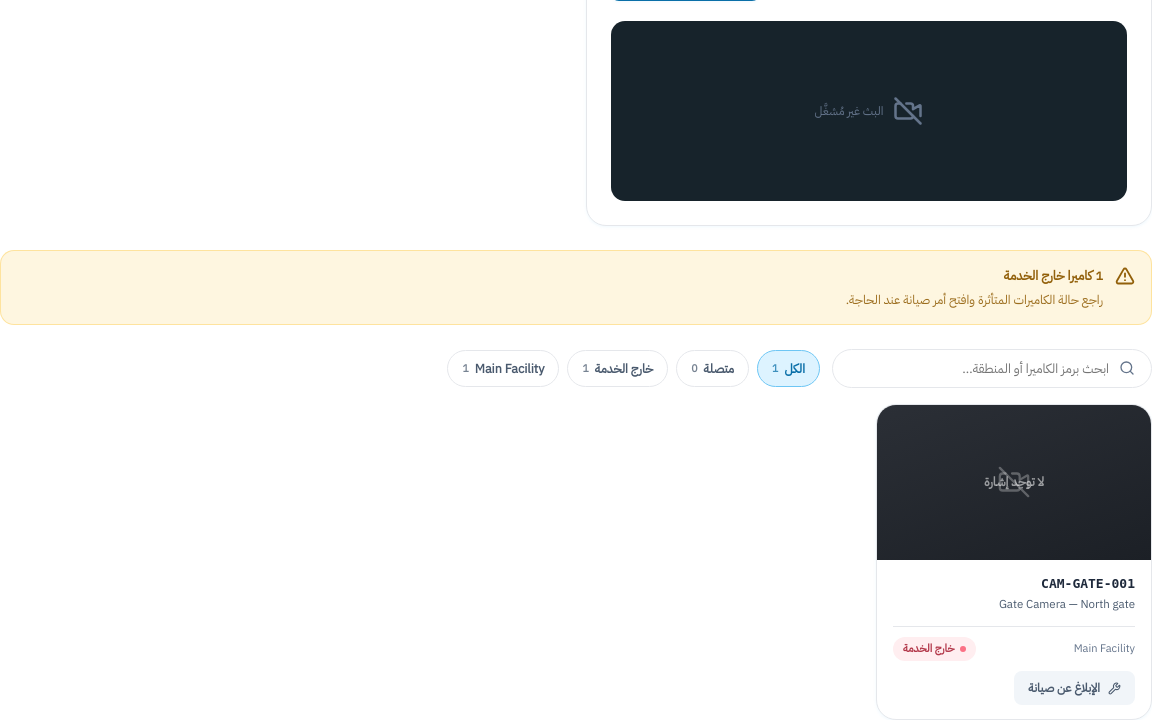
Test case: CameraMonitoringPage maintenance reporting › lets a Security Officer report a camera and shows the fault reference
The image size is (1152, 720).
(page scrolled)
Click the button "الإبلاغ عن صيانة": (1075, 688) x1=1014 y1=671 x2=1135 y2=705
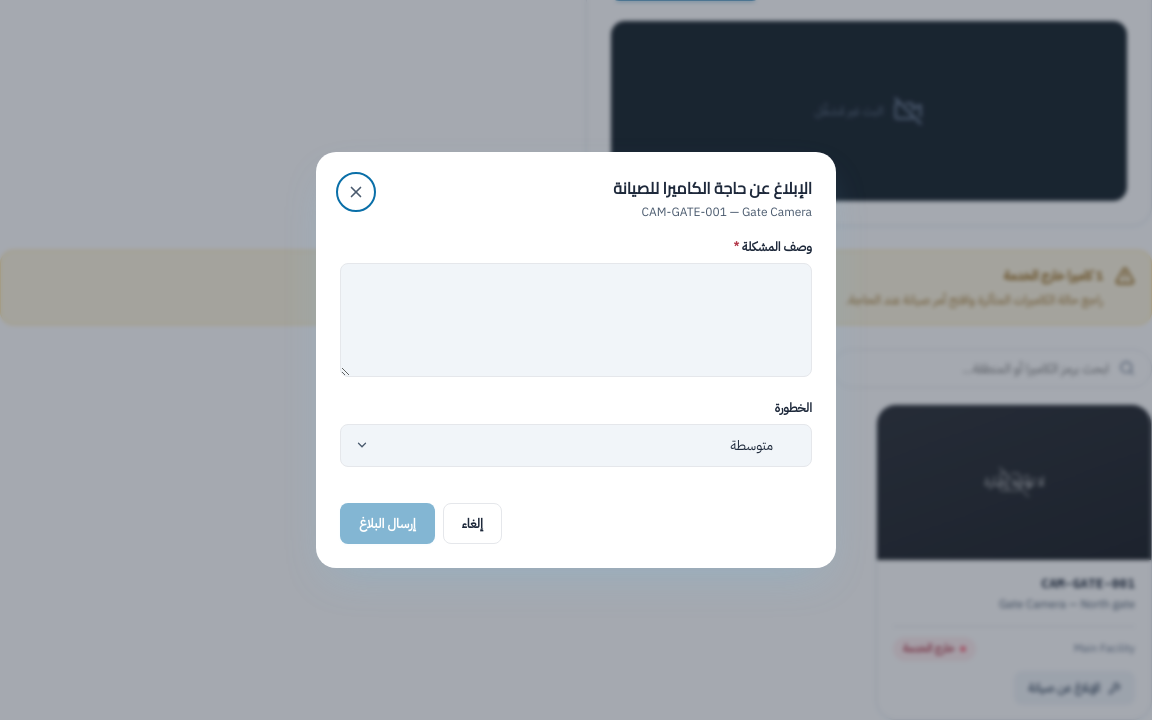
Now the button "إرسال البلاغ" is disabled, box x1=340 y1=503 x2=435 y2=544
In the text box labelled "وصف المشكلة*": (576, 320) x1=340 y1=263 x2=812 y2=377, type "Lens cracked"
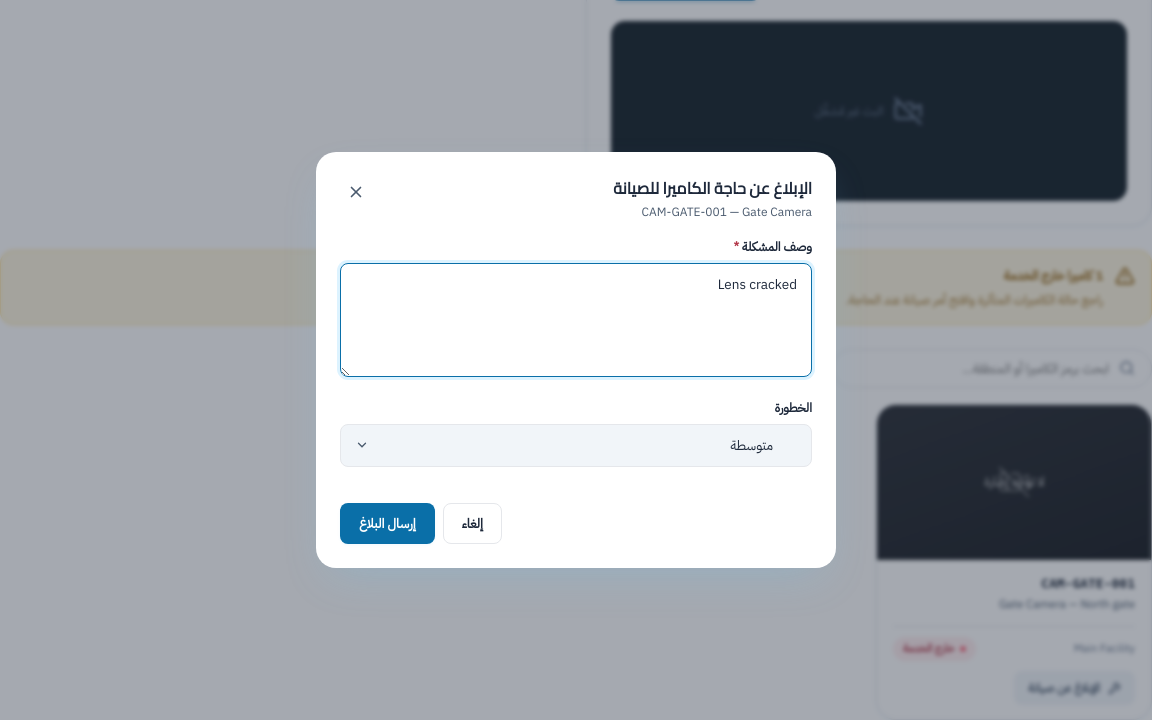
Select "عالية" in the dropdown labelled "الخطورة": (576, 445) x1=340 y1=424 x2=812 y2=467
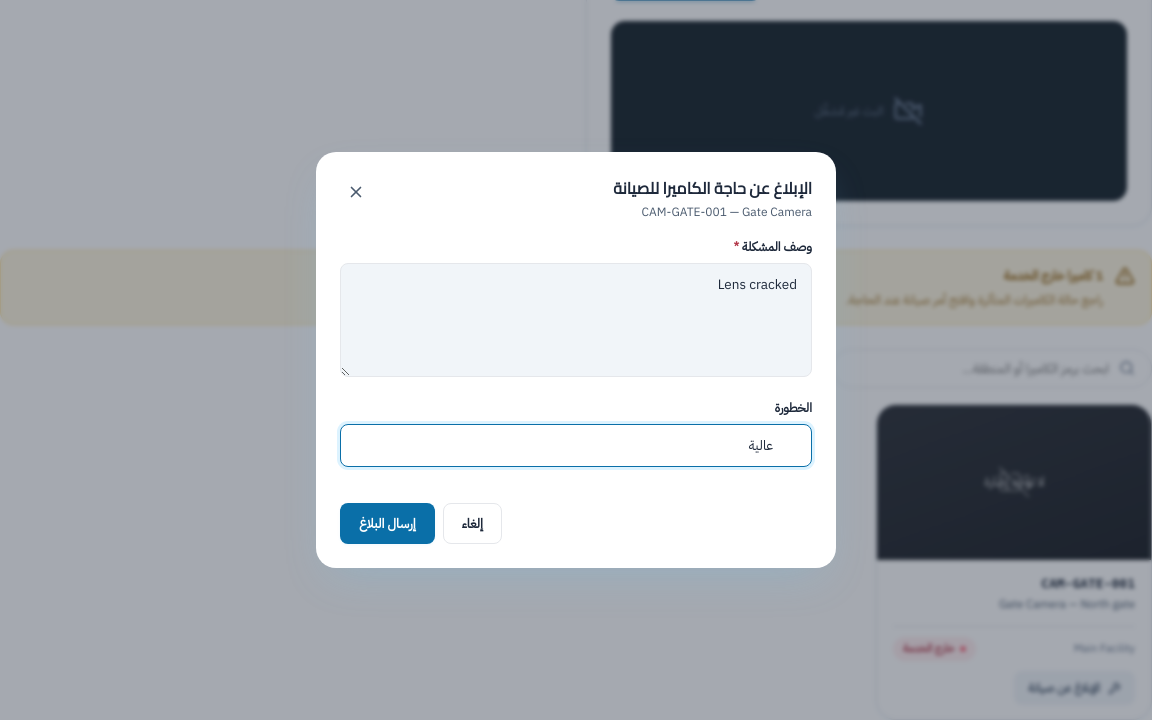
Click the button "إرسال البلاغ": (387, 523) x1=340 y1=503 x2=435 y2=544
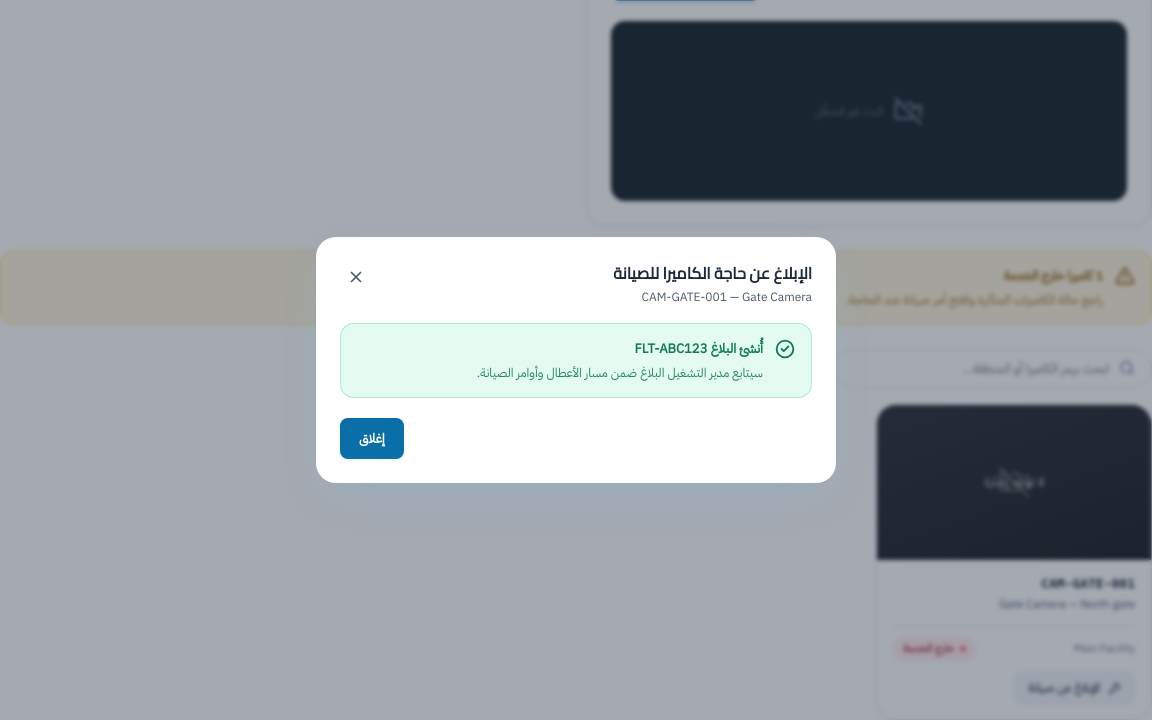
Now the text "أُنشئ البلاغ FLT-ABC123" is shown, box x1=635 y1=339 x2=763 y2=358
